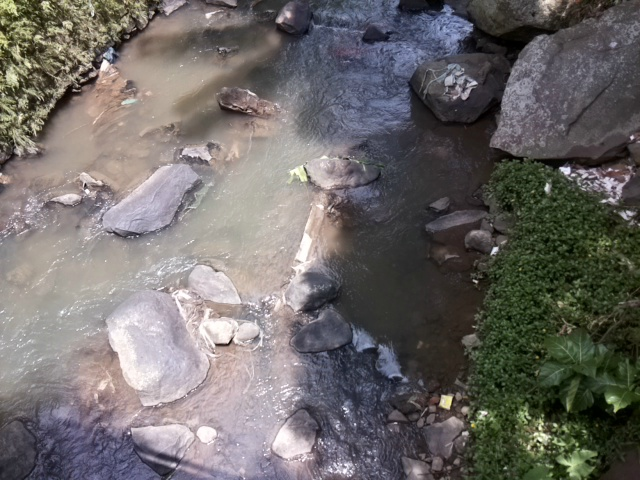Sampah_Plastik: (420, 62, 479, 102), (100, 46, 121, 63)
